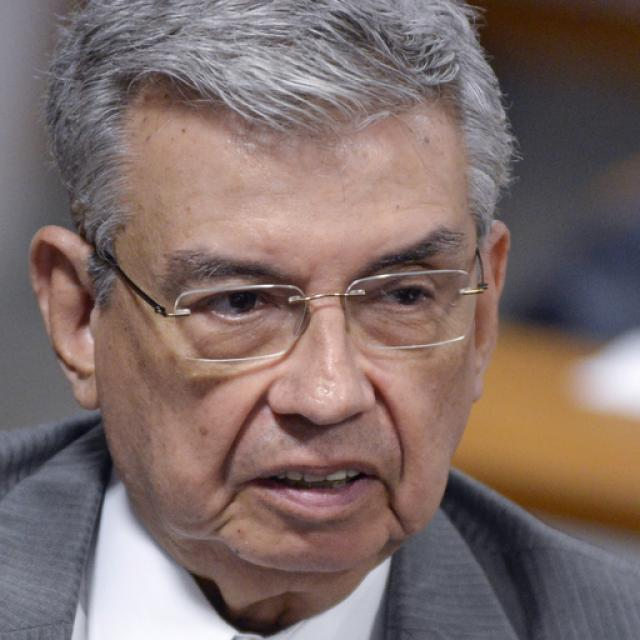Wrinkle: (213, 374, 271, 487), (371, 368, 413, 484), (385, 479, 414, 532), (199, 487, 239, 521)
